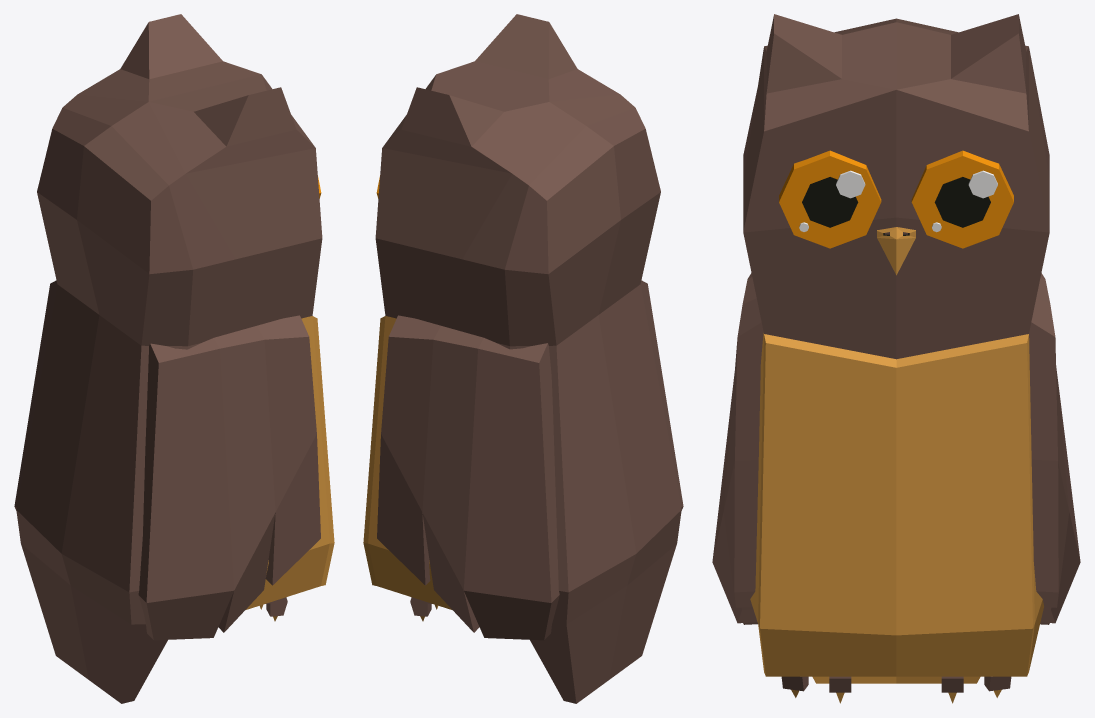
File: 3IwTPvL_EAX.glb
The picture shows the model from 3 angles, left to right: view 1: azimuth 30°, elevation 25°; view 2: azimuth 150°, elevation 25°; view 3: azimuth 270°, elevation 25°; orthographic projection. The views are drawn at different scales.
Visible parts, largest first — view 1: Owl_01_Cube.027; view 2: Owl_01_Cube.027; view 3: Owl_01_Cube.027.
Part boxes in pixels (<box>): Owl_01_Cube.027: <box>14,14,334,703</box>; Owl_01_Cube.027: <box>363,14,683,703</box>; Owl_01_Cube.027: <box>712,14,1080,703</box>.
Bounding box in the file's own units: 8.88 × 22.1 × 10.14.
Materials: 1 (1 with a texture image).
